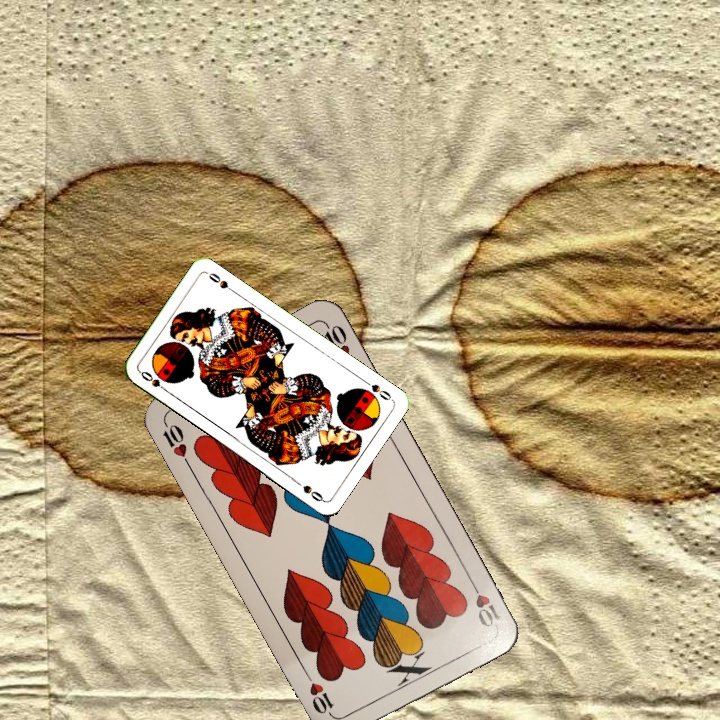H10: (465, 574, 504, 630), (158, 413, 193, 468)
SO: (136, 367, 172, 396), (359, 375, 395, 403)
